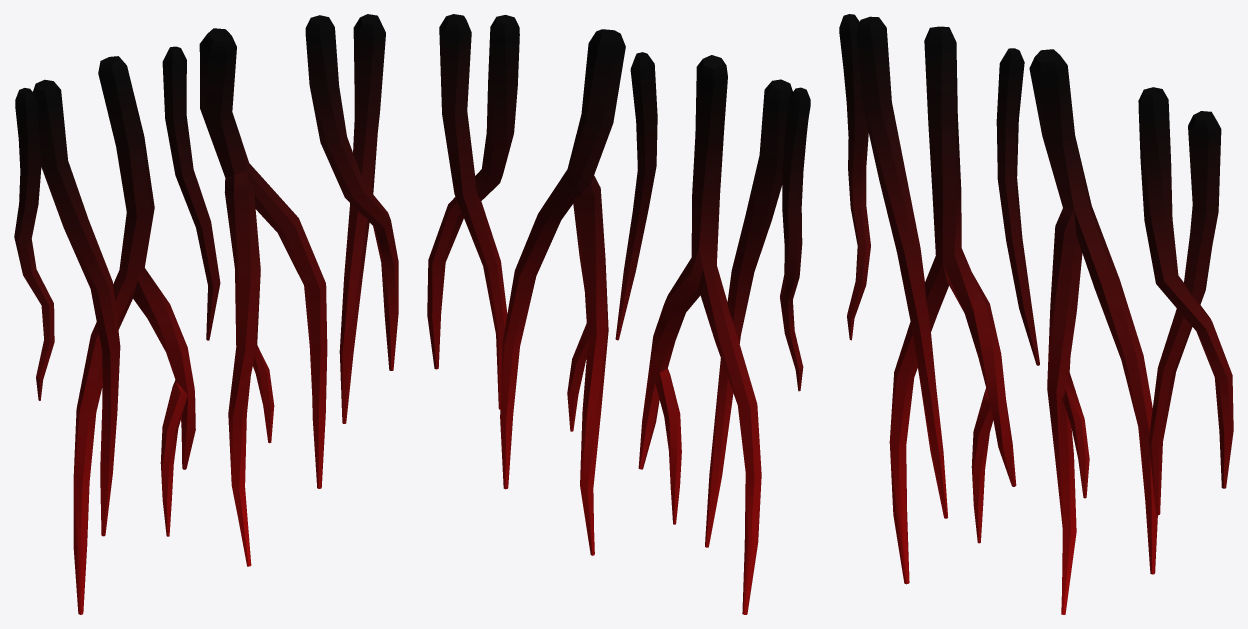
File: SM_Env_Vines_03.fbx
The picture shows the model from 3 angles, left to right: view 1: azimuth 30°, elevation 25°; view 2: azimuth 150°, elevation 25°; view 3: azimuth 330°, elevation 25°; orthographic projection. The views are drawn at different scales.
Visible parts, largest first — view 1: SM_Env_Vines_03_LOD0; view 2: SM_Env_Vines_03_LOD0; view 3: SM_Env_Vines_03_LOD0.
Boxes of the visible parts, bbox=[...] form: SM_Env_Vines_03_LOD0: bbox=[14, 14, 398, 614]; SM_Env_Vines_03_LOD0: bbox=[427, 14, 810, 614]; SM_Env_Vines_03_LOD0: bbox=[839, 14, 1233, 614].
Size of what is drawn, in the model's own units: 210 by 288 by 30.06.
